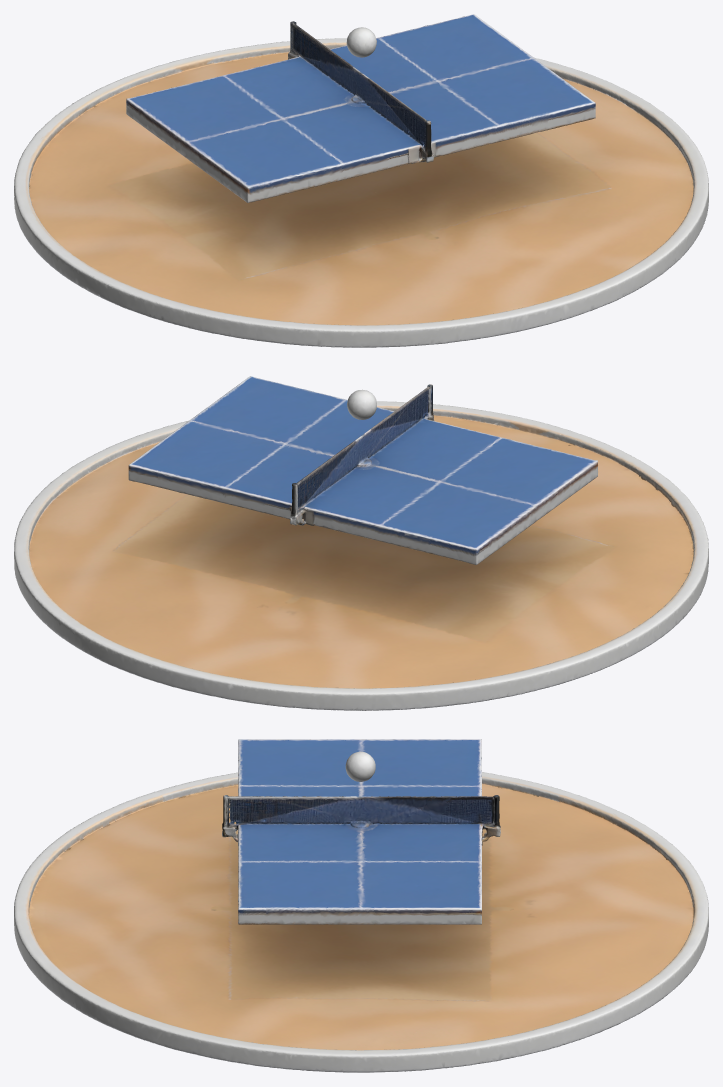
File: table1.glb
3 views of the same model, one above another, from view 1: azimuth 30°, elevation 25°; view 2: azimuth 150°, elevation 25°; view 3: azimuth 270°, elevation 25° (orthographic).
Bounding box in the file's own units: 1.9 × 0.5246 × 1.9.
Materials: 1 (1 with a texture image).
